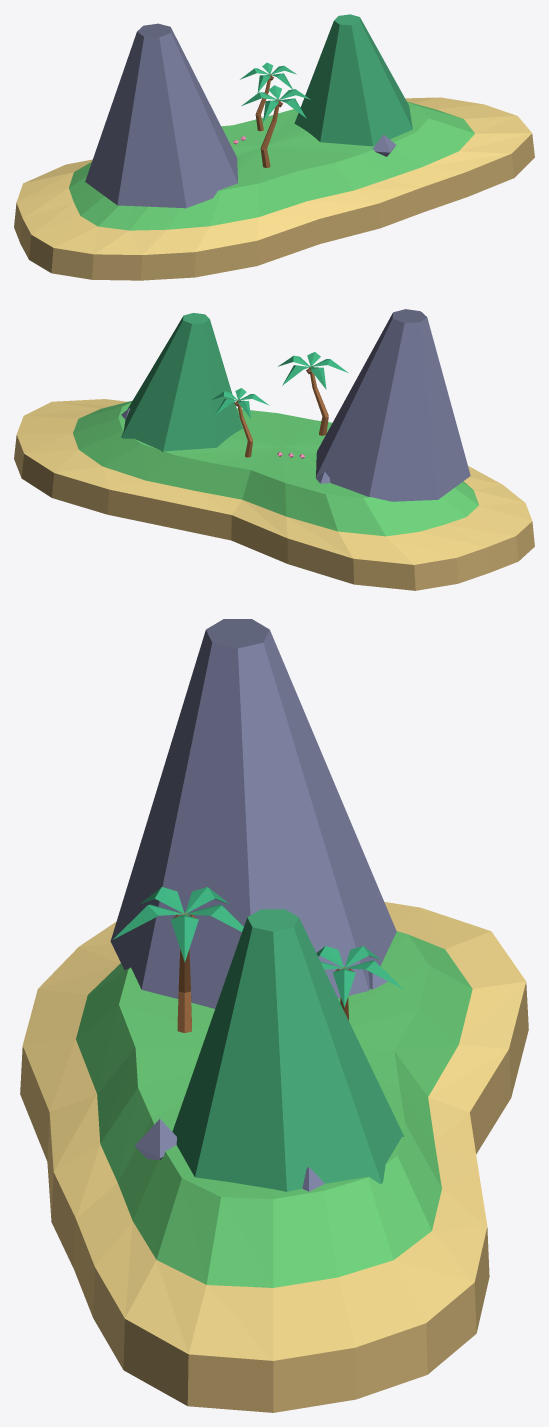
File: island-twin-peaks.glb
3 views of the same model, one above another, from view 1: azimuth 30°, elevation 25°; view 2: azimuth 150°, elevation 25°; view 3: azimuth 270°, elevation 25° (orthographic). The views are drawn at different scales.
Parts seen in each view (by area): view 1: grass, rock, sand, sand_edge, grass_shadow, leaf, trunk, rock_shadow; view 2: grass, rock, sand, sand_edge, grass_shadow, leaf, trunk, rock_shadow; view 3: grass, sand, rock, grass_shadow, sand_edge, leaf, rock_shadow, trunk.
Boxes of the visible parts, <box> form: grass: <box>69,101,474,230</box>; rock: <box>85,27,396,208</box>; sand: <box>16,97,531,254</box>; sand_edge: <box>14,133,534,280</box>; grass_shadow: <box>294,14,412,146</box>; leaf: <box>240,62,310,122</box>; trunk: <box>255,74,280,167</box>; rock_shadow: <box>137,23,170,37</box>; grass: <box>73,400,478,536</box>; rock: <box>121,313,470,501</box>; sand: <box>16,399,532,564</box>; sand_edge: <box>14,435,534,590</box>; grass_shadow: <box>121,313,242,452</box>; leaf: <box>211,352,348,418</box>; trunk: <box>237,366,328,457</box>; rock_shadow: <box>392,309,426,322</box>; grass: <box>76,931,472,1287</box>; sand: <box>22,902,526,1360</box>; rock: <box>110,630,396,1191</box>; grass_shadow: <box>172,909,404,1191</box>; sand_edge: <box>20,982,528,1412</box>; leaf: <box>113,887,403,1007</box>; rock_shadow: <box>206,619,269,648</box>; trunk: <box>177,912,348,1032</box>.
Bounding box in the file's own units: 16 × 6.45 × 7.17.
